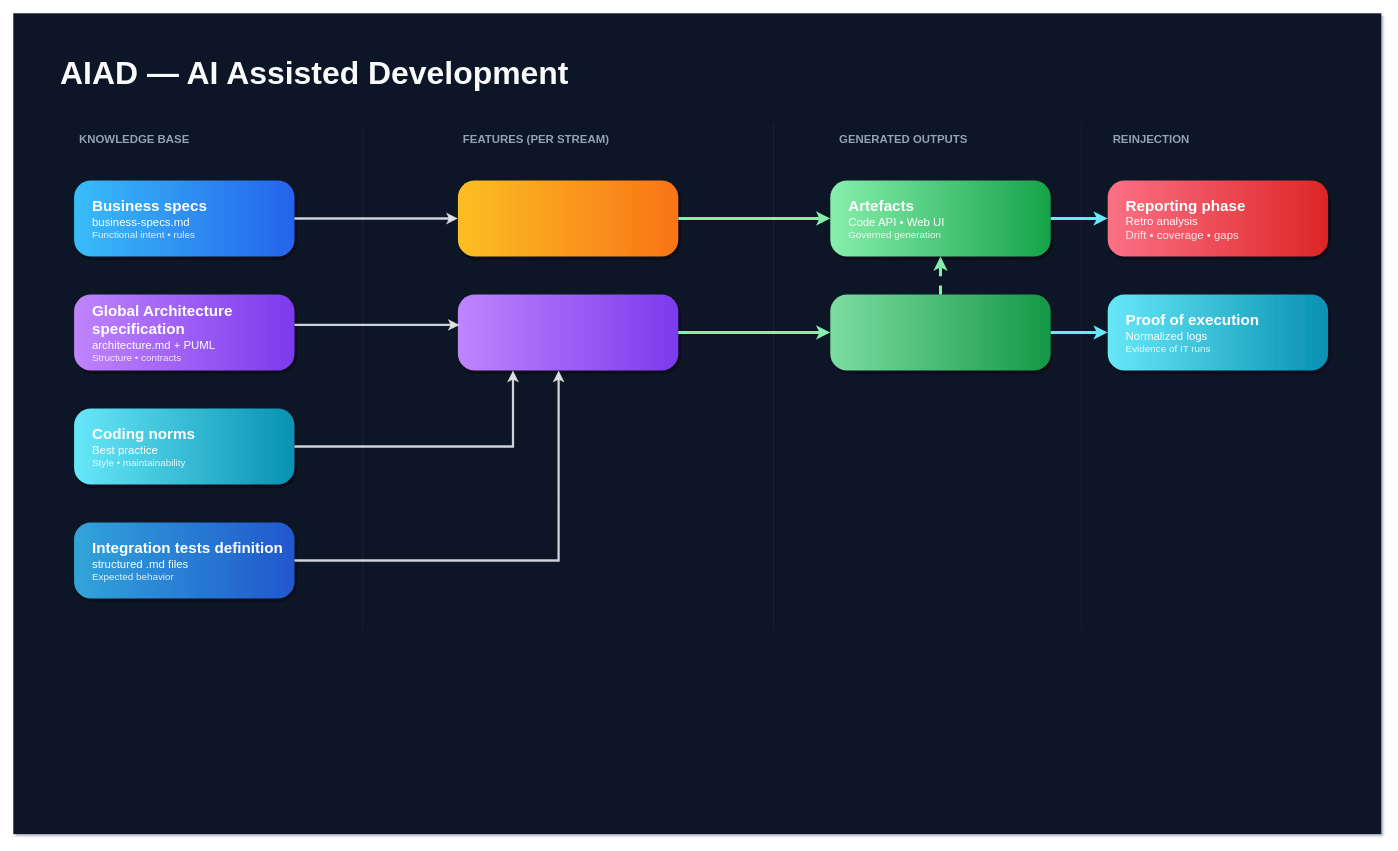
Some shapes in this 1398 by 851 pixel diagram are drawn without their labels. The centre of each missing label's shape, as x and y in pixels:
"Business Feature FXYZ-description.md" belongs at (568,219).
"Integration tests Executable IT From IT definitions" belongs at (941,333).
"Integration tests FXYZ.integration.md" belongs at (568,333).
